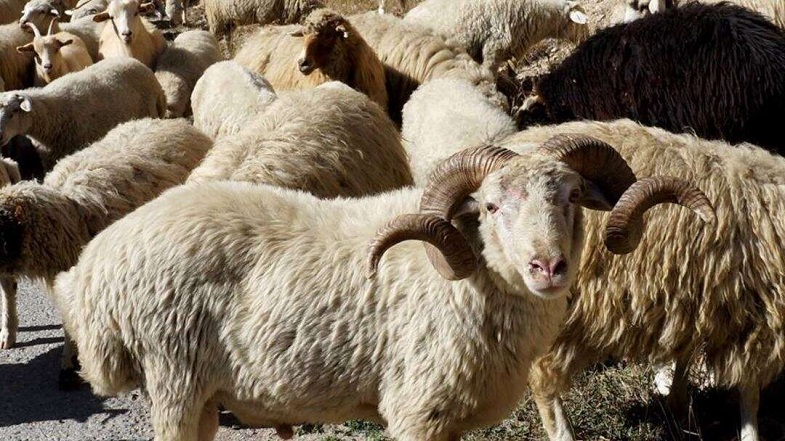sheep: (26, 77, 585, 441)
